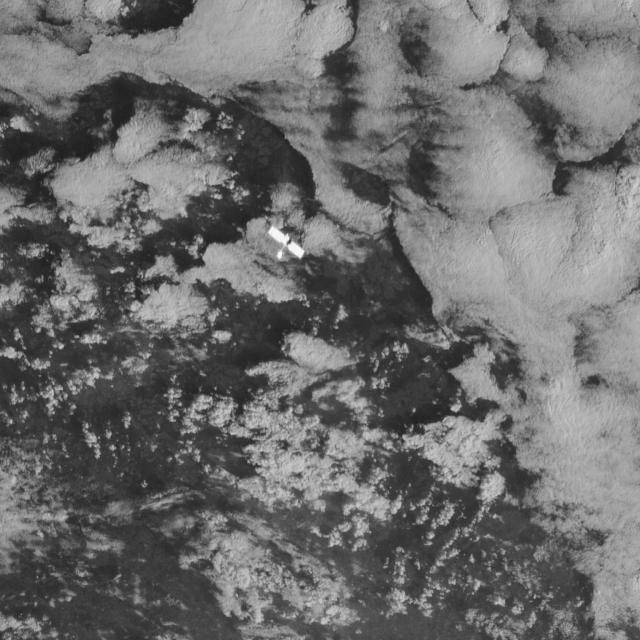satellite: (250, 222, 313, 265)
